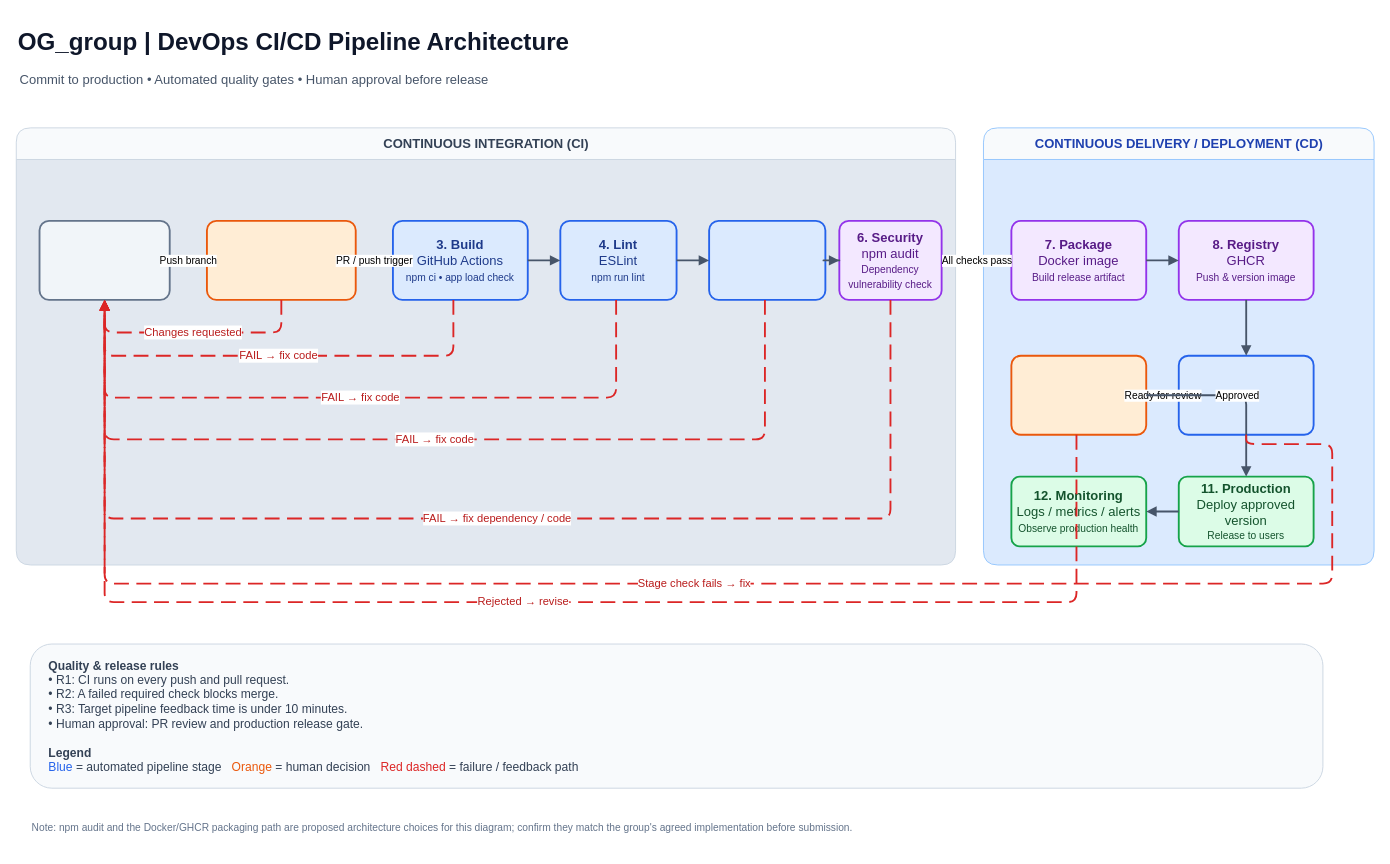
Some shapes in this 1390 by 864 pixel diagram are drawn without their labels. Each missing label, with the centre of its shape:
1. Developer Code change Local edit & commit: (104,259)
10. Approval Manual release gate Authorised person approves: (1078,394)
2. Pull Request GitHub PR to main Human code review / approval: (281,259)
5. Test Jest npm test -- --ci: (767,259)
9. Staging Deploy to staging Smoke / acceptance check: (1245,394)
